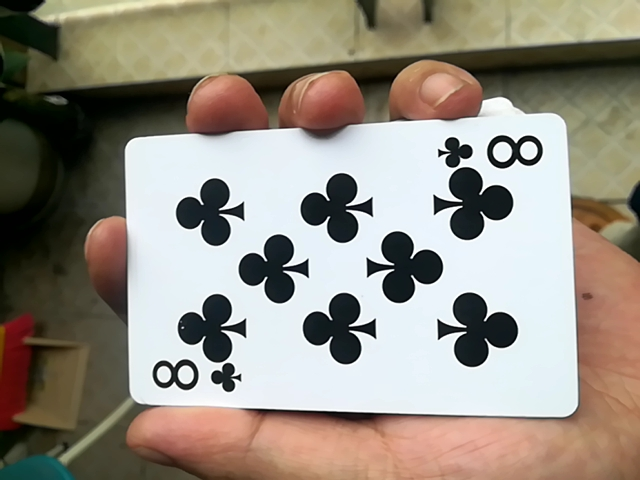mh 8: (115, 120, 567, 434)
